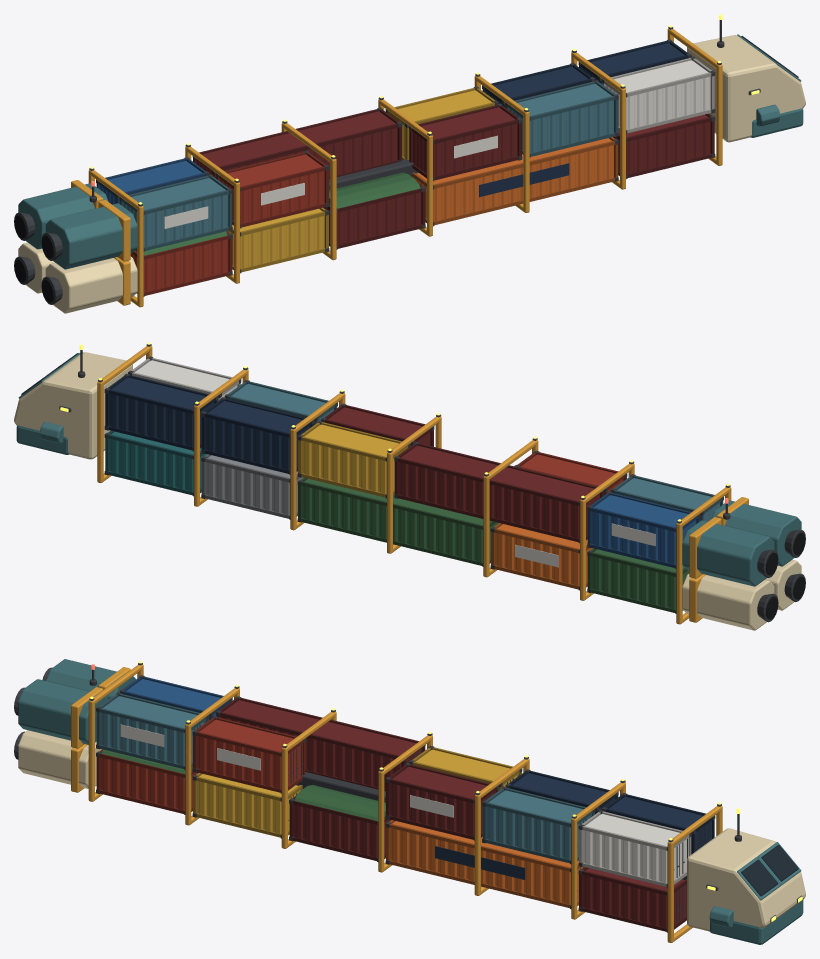
The model's file is hauler.glb.
The picture shows the model from 3 angles, top to bottom: view 1: azimuth 30°, elevation 25°; view 2: azimuth 150°, elevation 25°; view 3: azimuth 330°, elevation 25°; orthographic projection.
Visible parts, largest first — view 1: cargo body, hull body, drive body; view 2: cargo body, hull body, drive body; view 3: cargo body, hull body, drive body.
Part boxes in pixels (x1,y1,x2,y2): cargo body: [96, 39, 715, 296]; hull body: [88, 20, 805, 307]; drive body: [14, 180, 137, 313]; cargo body: [104, 356, 723, 613]; hull body: [14, 342, 731, 624]; drive body: [682, 497, 805, 630]; cargo body: [96, 675, 715, 932]; hull body: [88, 661, 805, 944]; drive body: [14, 659, 135, 792].
Bounding box in the file's own units: 19.68 × 2.93 × 2.4.
